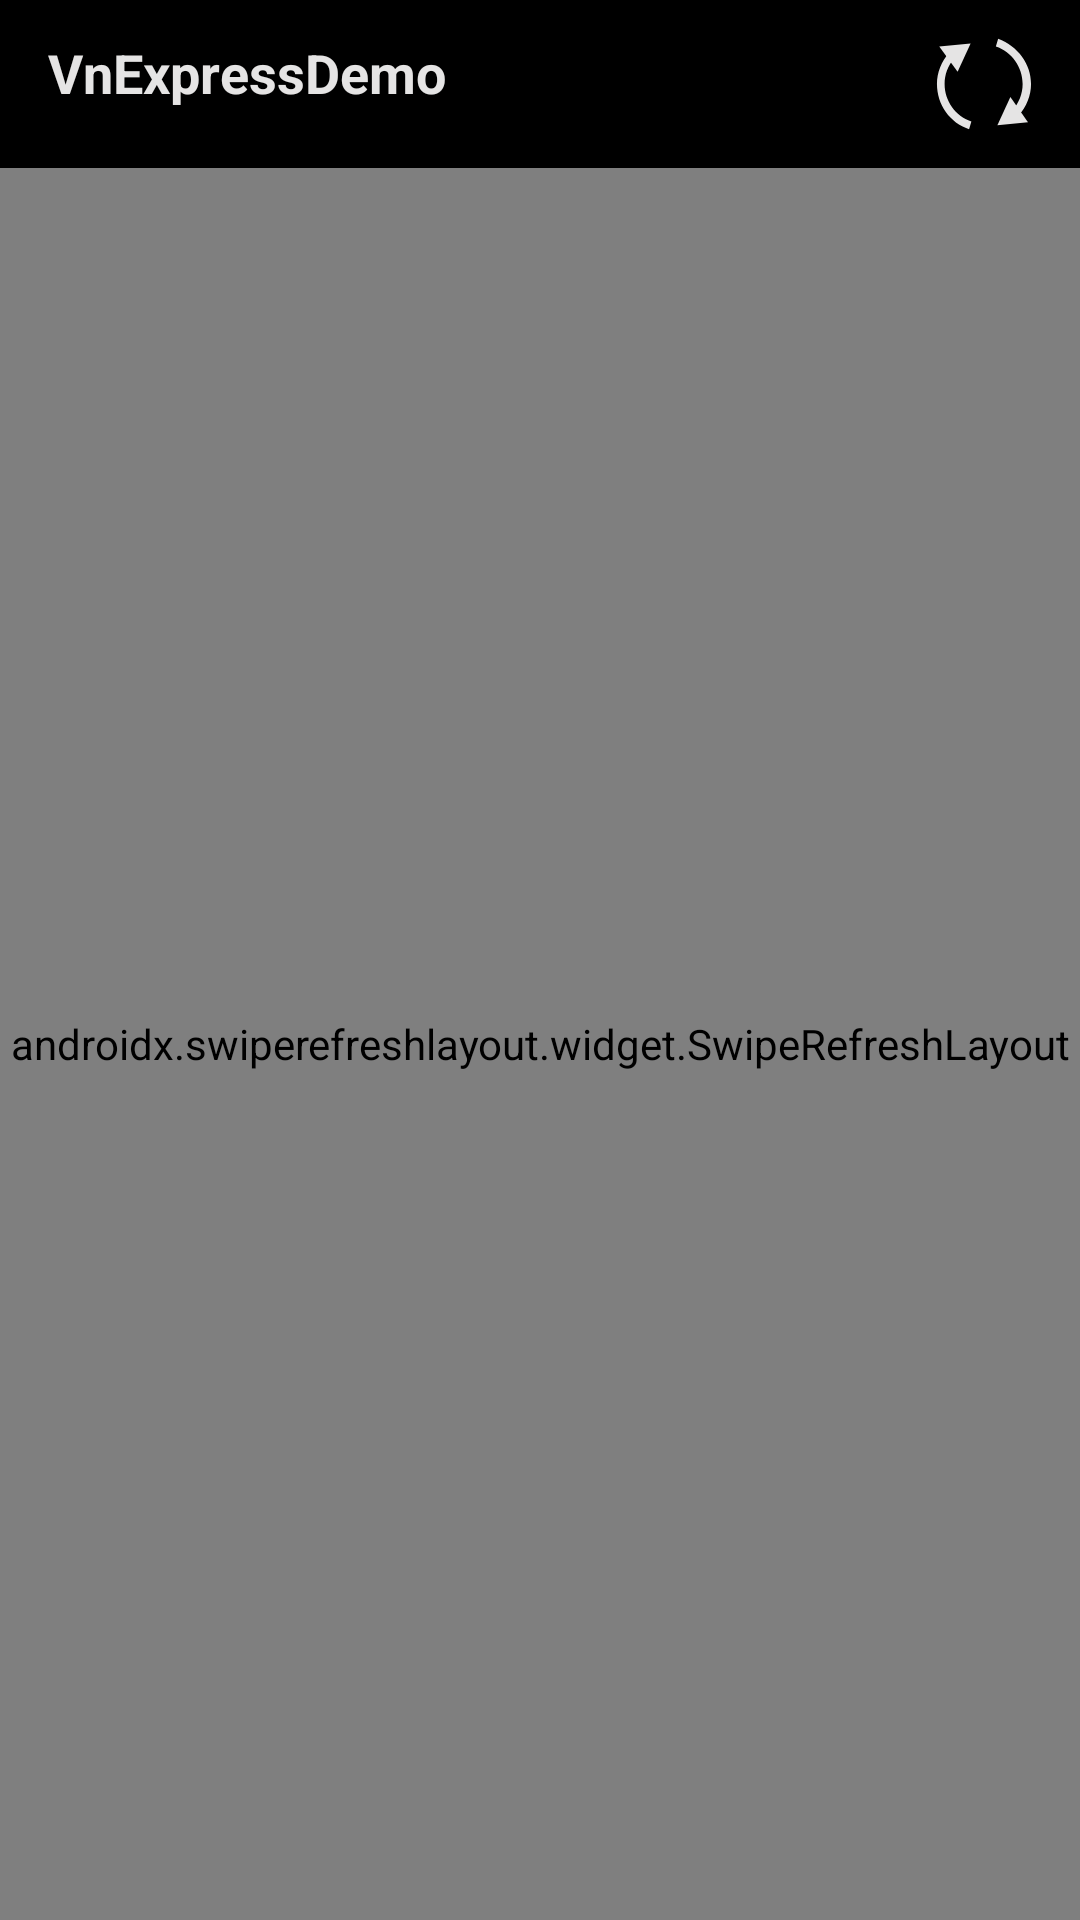

Icons on this 1080 x 1920 Android screen, each with its box as [x1=x1, y1=y1, x2=x2, y2=y2]:
change: [x1=937, y1=39, x2=1031, y2=129]
